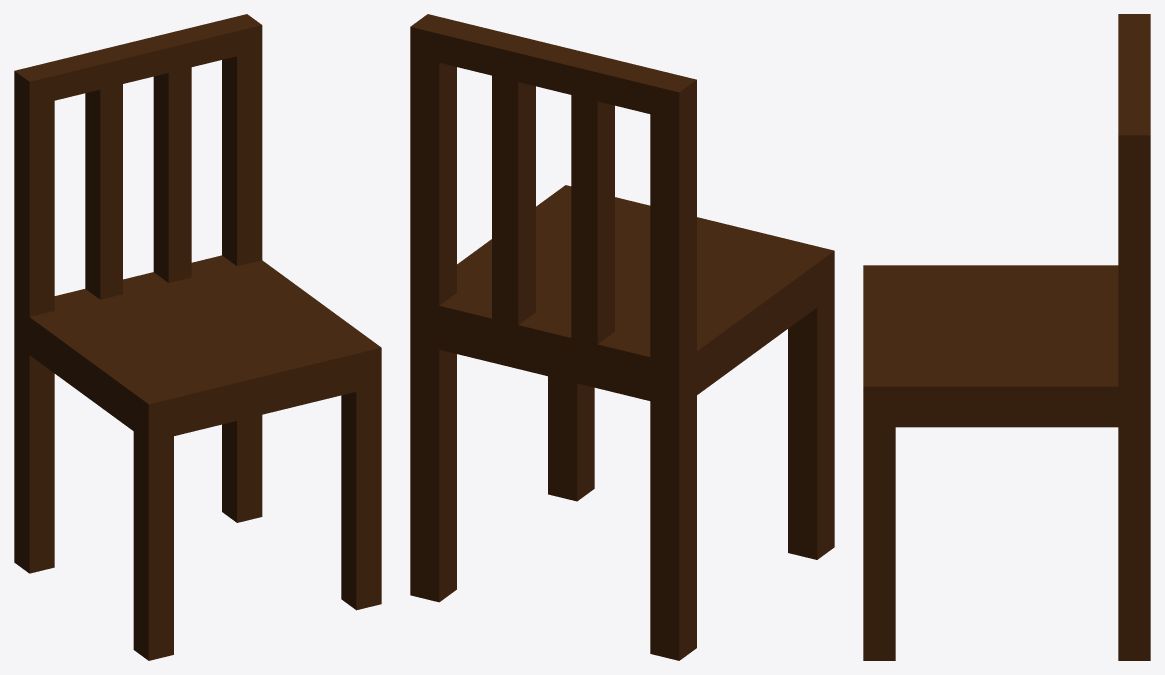
Rendered from Cadeira.fbx.
3 renders of one model, left to right at view 1: azimuth 30°, elevation 25°; view 2: azimuth 150°, elevation 25°; view 3: azimuth 270°, elevation 25°, orthographic. The views are drawn at different scales.
Parts seen in each view (by area): view 1: Cube; view 2: Cube; view 3: Cube.
Boxes of the visible parts, x1,y1,x2,y2 form: Cube: [14, 14, 381, 660]; Cube: [410, 14, 834, 660]; Cube: [863, 14, 1150, 660].
Size of the model in its own units: 200 by 404 by 200.
